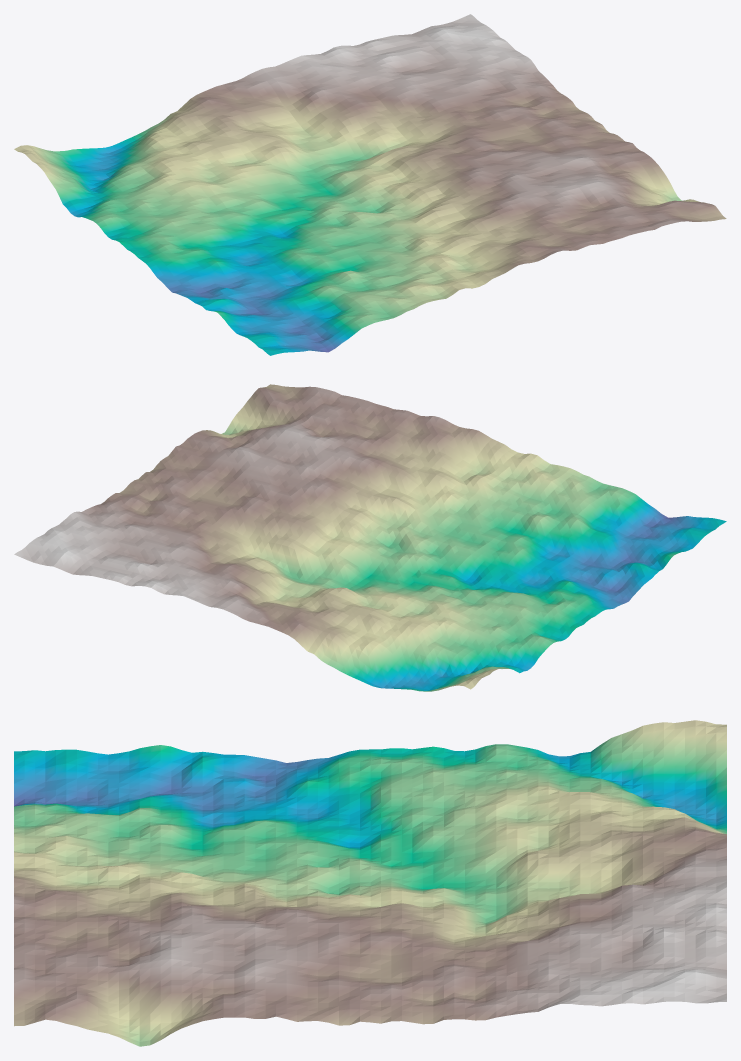
Rendered from 004303_terrain_only.glb.
3 renders of one model, top to bottom at view 1: azimuth 30°, elevation 25°; view 2: azimuth 150°, elevation 25°; view 3: azimuth 270°, elevation 25°, orthographic. The views are drawn at different scales.
Visible parts, largest first — view 1: terrain; view 2: terrain; view 3: terrain.
Part boxes in pixels (x1,y1,x2,y2): terrain: (14,14,726,355); terrain: (14,384,726,691); terrain: (14,720,726,1046).
Bounding box in the file's own units: 0.0189 × 0.0022 × 0.0183.
